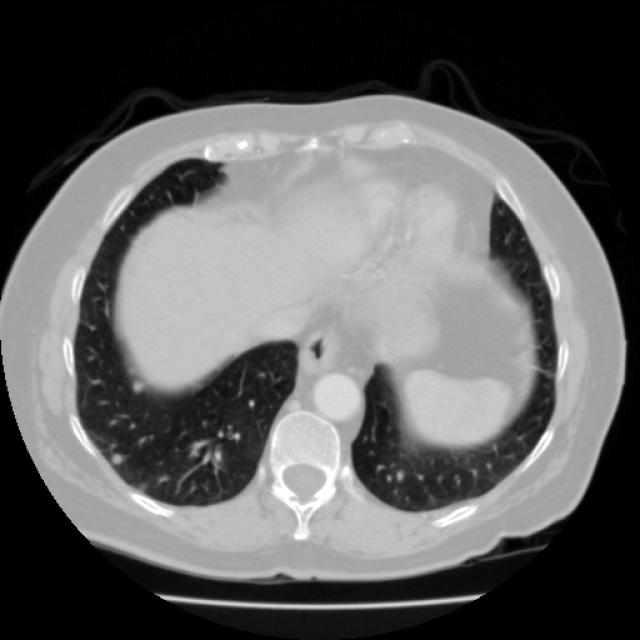nodule: (104, 445, 128, 470)
